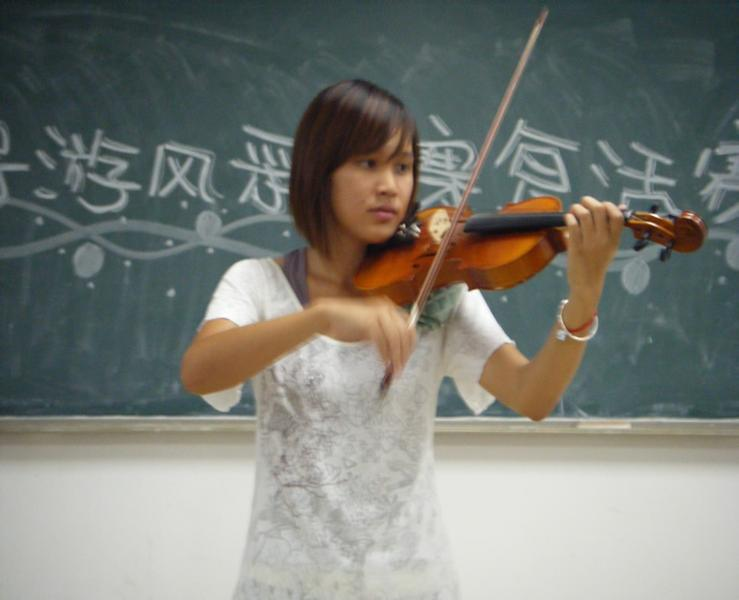person: (182, 82, 624, 600)
